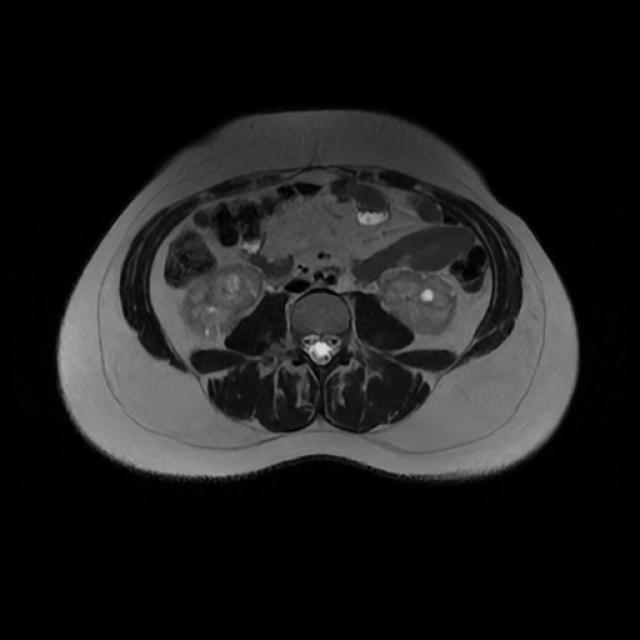sag: (182, 264, 264, 340)
sol: (381, 266, 458, 333)
